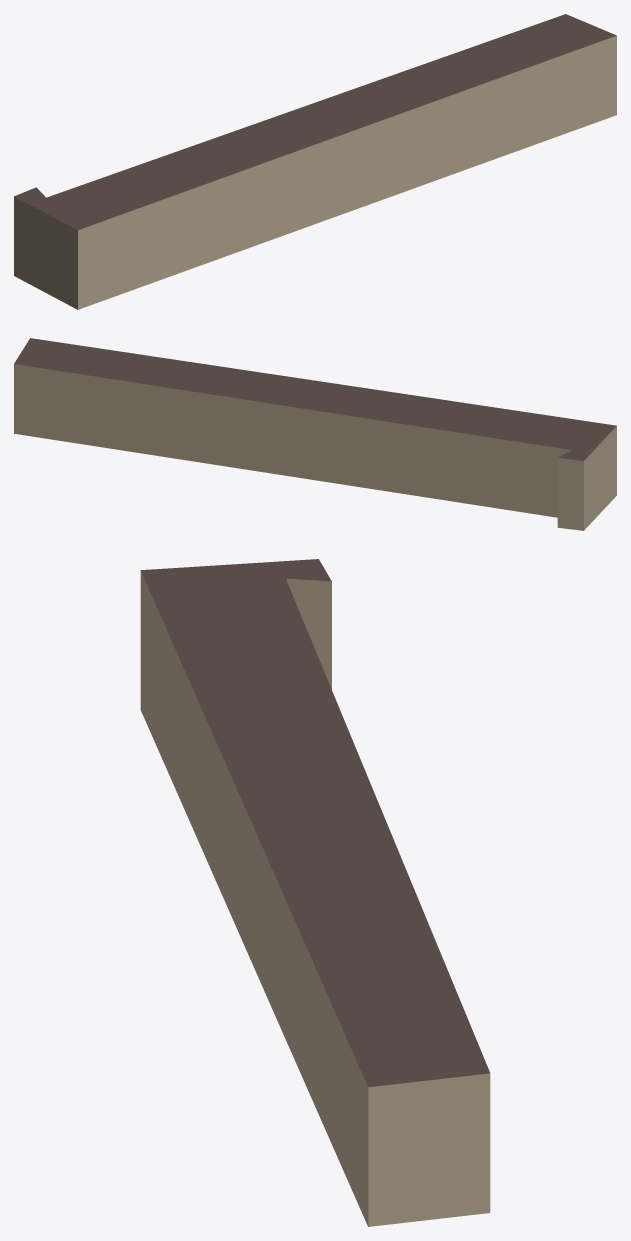
The picture shows the model from 3 angles, top to bottom: view 1: azimuth 30°, elevation 25°; view 2: azimuth 150°, elevation 25°; view 3: azimuth 270°, elevation 25°; orthographic projection. The views are drawn at different scales.
Parts seen in each view (by area): view 1: HP-w1365659881; view 2: HP-w1365659881; view 3: HP-w1365659881.
Part boxes in pixels (x1,y1,x2,y2): HP-w1365659881: (14, 14, 616, 309); HP-w1365659881: (14, 338, 616, 530); HP-w1365659881: (140, 559, 490, 1226).
Bounding box in the file's own units: 73.02 × 9 × 20.43.
